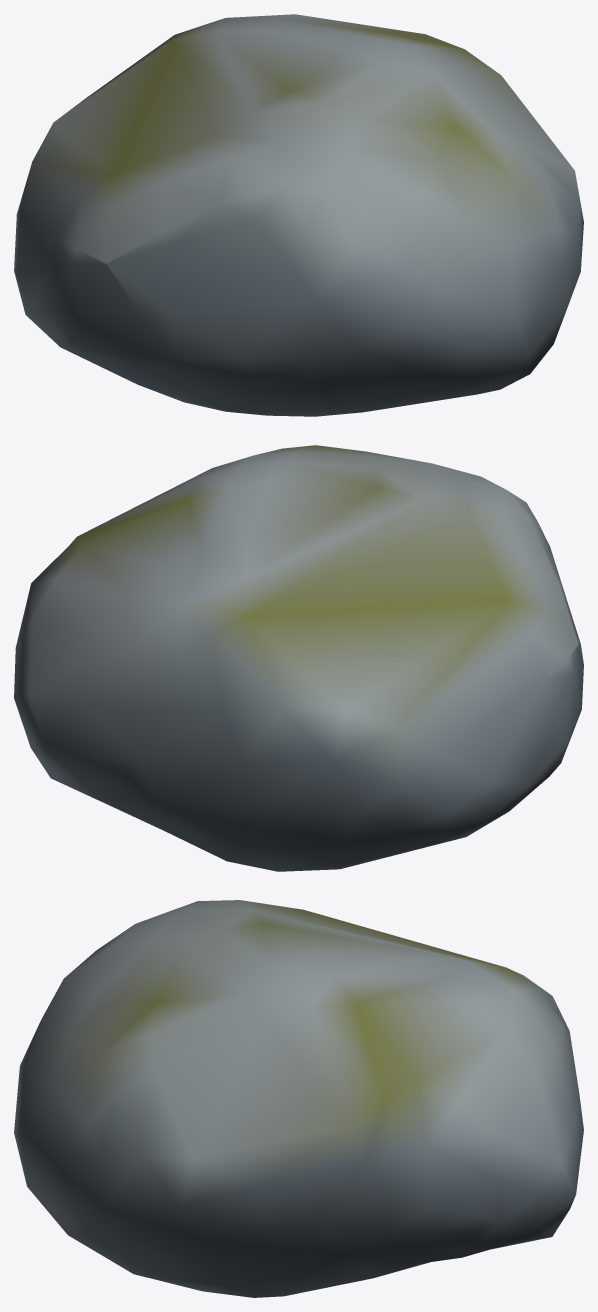
The model's file is stone-c.glb.
3 renders of one model, top to bottom at view 1: azimuth 30°, elevation 25°; view 2: azimuth 150°, elevation 25°; view 3: azimuth 270°, elevation 25°, orthographic.
Parts seen in each view (by area): view 1: stone-c; view 2: stone-c; view 3: stone-c.
Part boxes in pixels (x1,y1,x2,y2): stone-c: (14,14,583,416); stone-c: (14,445,583,871); stone-c: (14,900,583,1297).
Size of the model in its own units: 0.98 by 0.6047 by 1.
